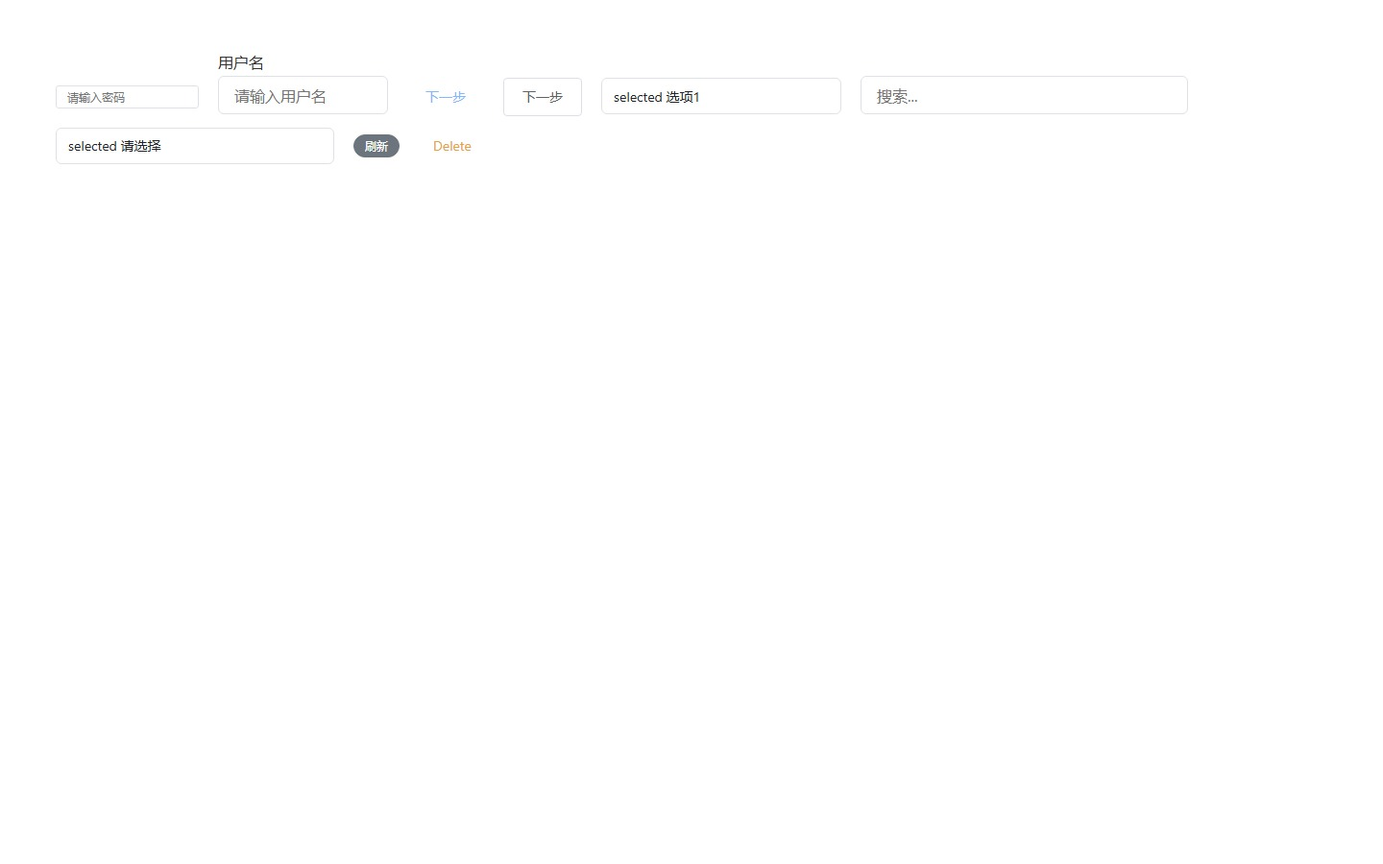button: (503, 77, 582, 116), (407, 78, 484, 115), (419, 132, 486, 160), (353, 134, 400, 157)
input: (861, 76, 1188, 114), (218, 76, 388, 114), (56, 85, 199, 108)
select: (56, 127, 334, 164), (601, 78, 841, 114)
